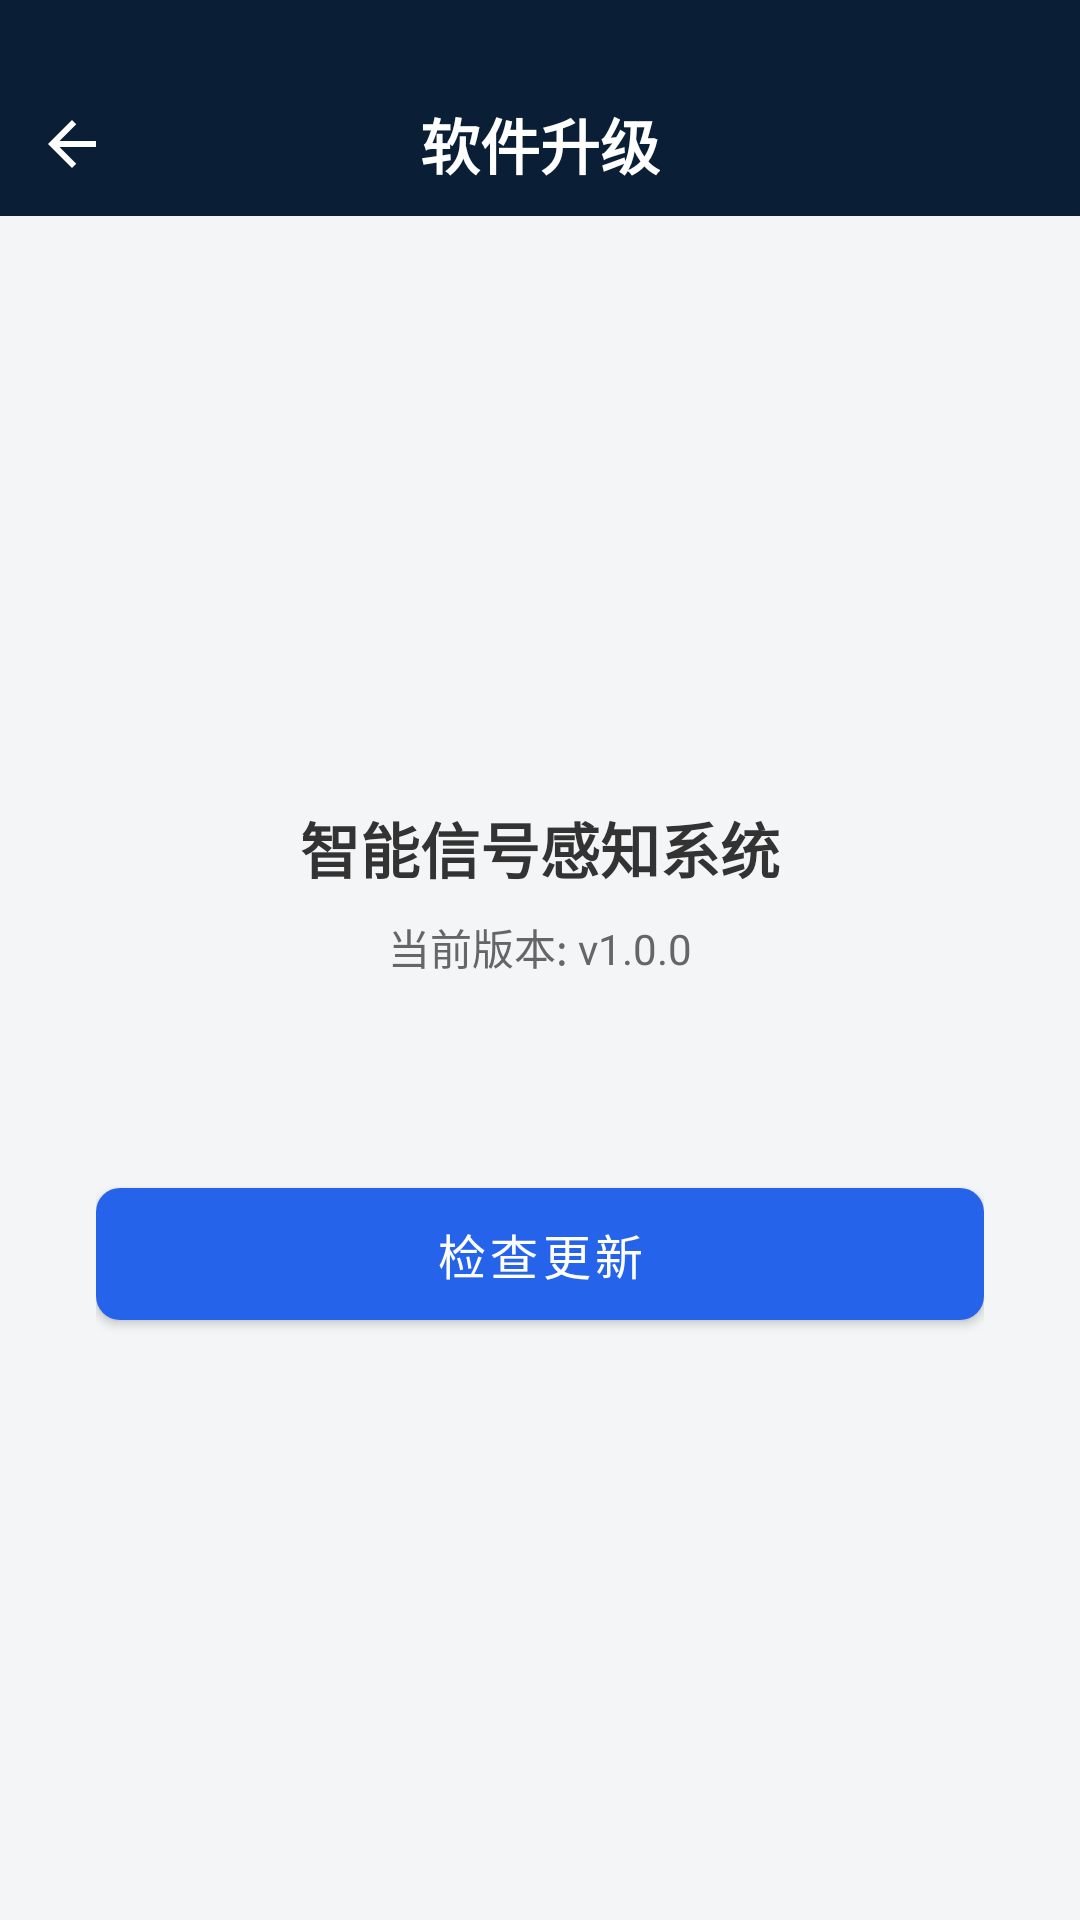

Icon bounding boxes for this 1080w x 1920h phone screenshot, format (left=x1, top=y1, right=x2, bottom=y2):
back: (left=48, top=120, right=96, bottom=168)
